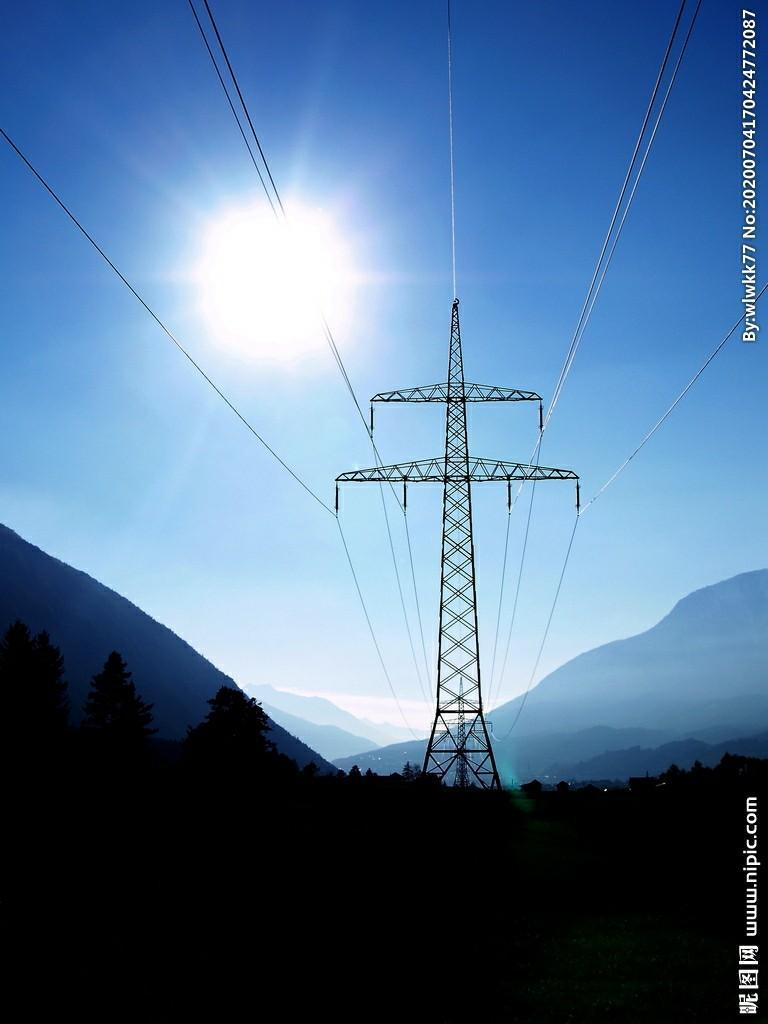power_tower: (326, 283, 583, 804)
